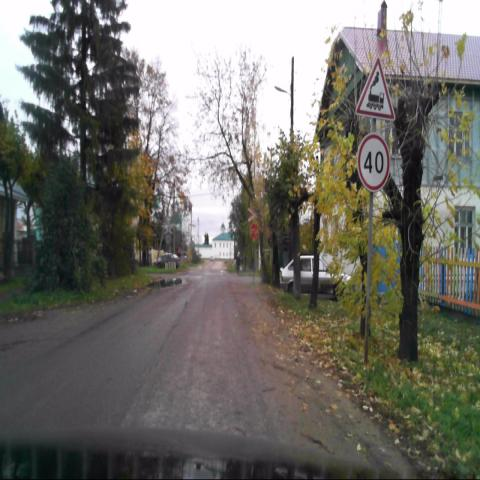1_2: (354, 57, 395, 122)
